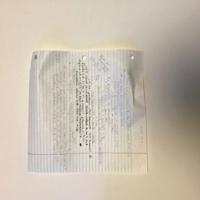paper: (26, 44, 151, 179)
